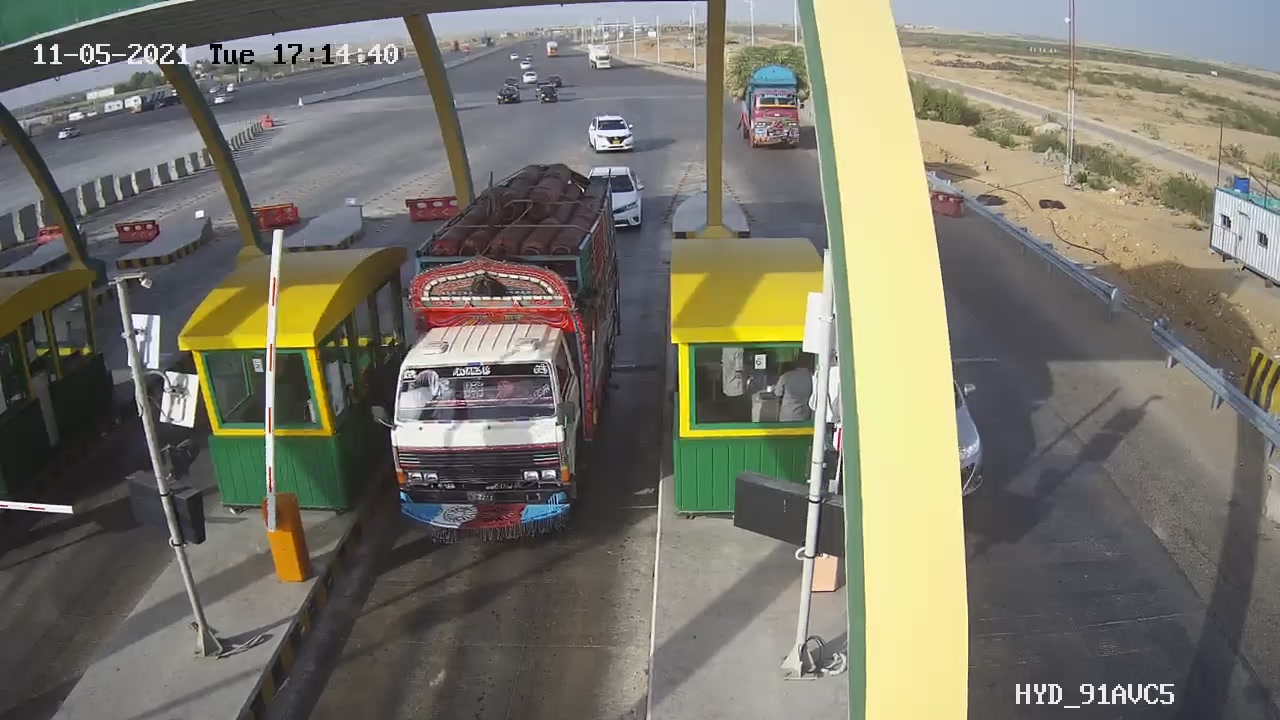F5: (359, 149, 660, 565)
